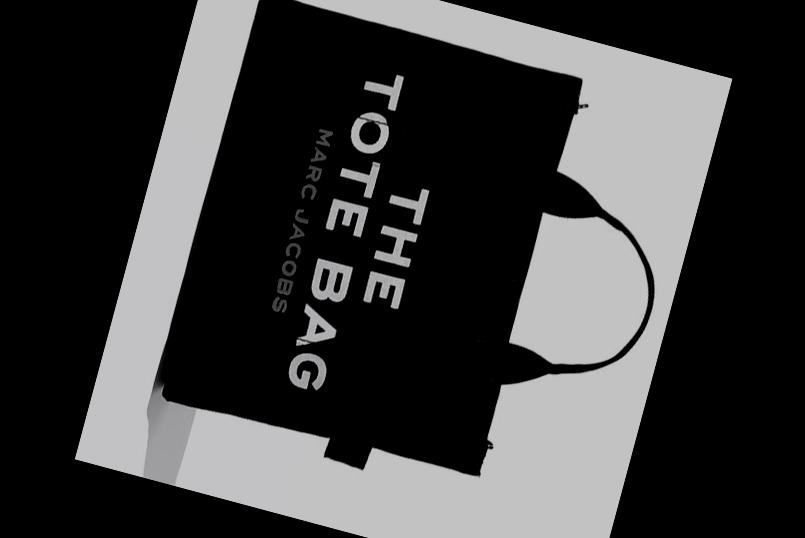MARC-JACOBS: (269, 126, 333, 314)
